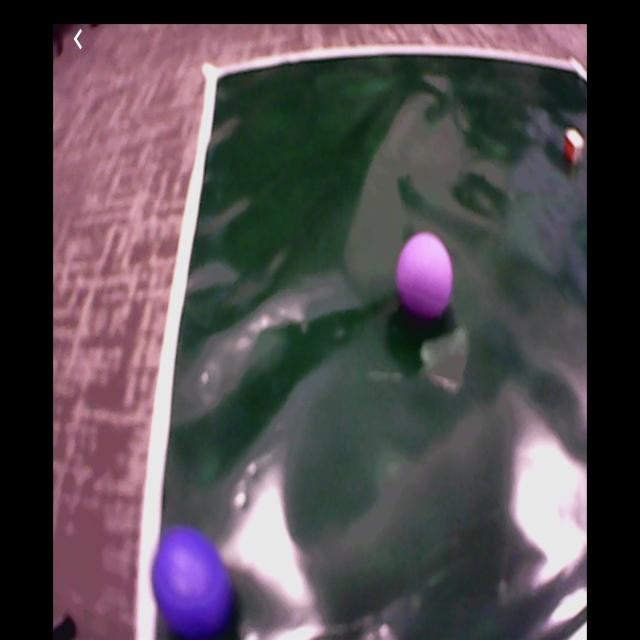ball: (153, 524, 232, 638), (399, 232, 453, 316)
